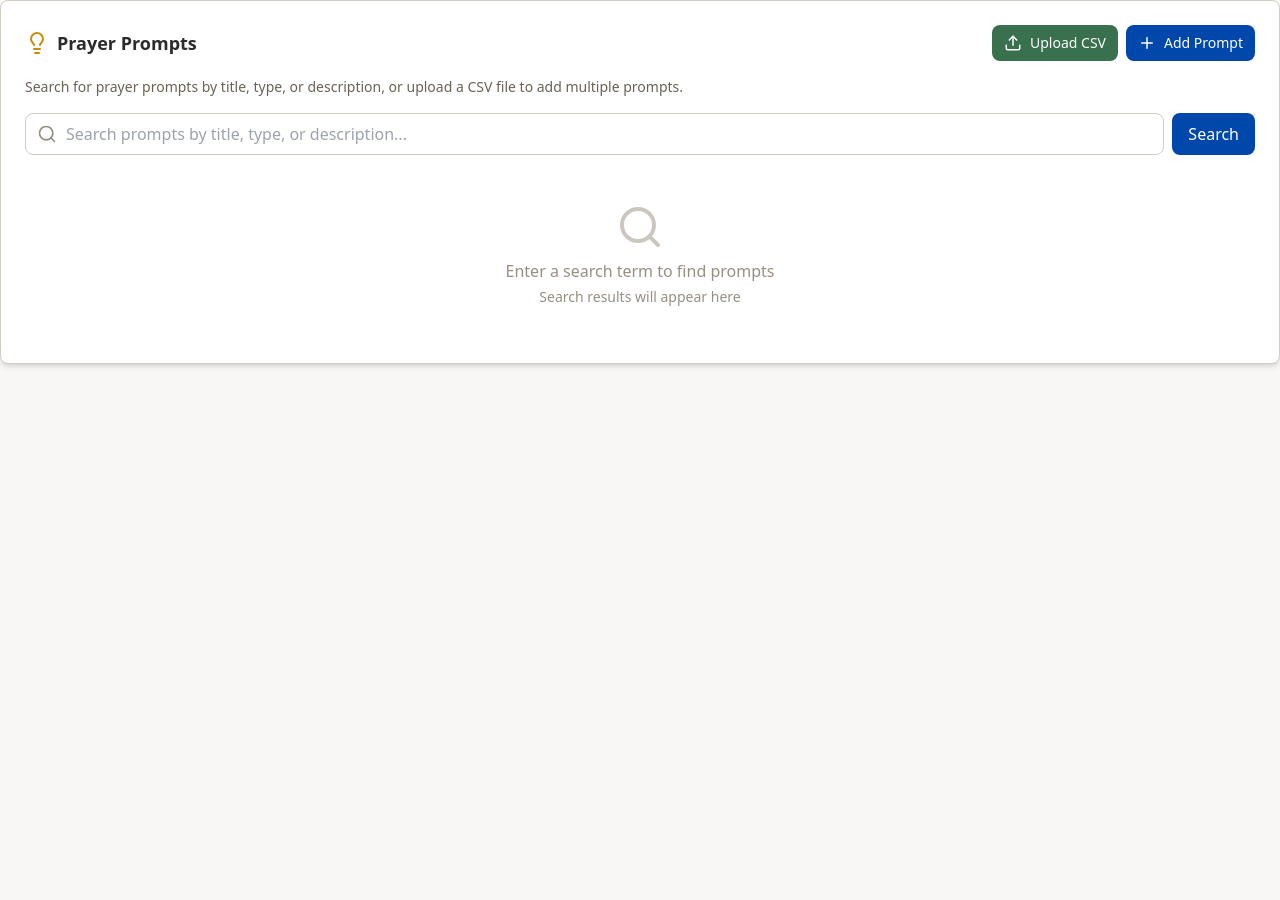
Test case: PromptManager Component › Add Prompt Functionality › shows add form when Add Prompt button is clicked
// Click the top Add Prompt button (not the submit button)
Step 1. Click the button "Add Prompt" → (1190, 43), box [1126,25,1255,61]
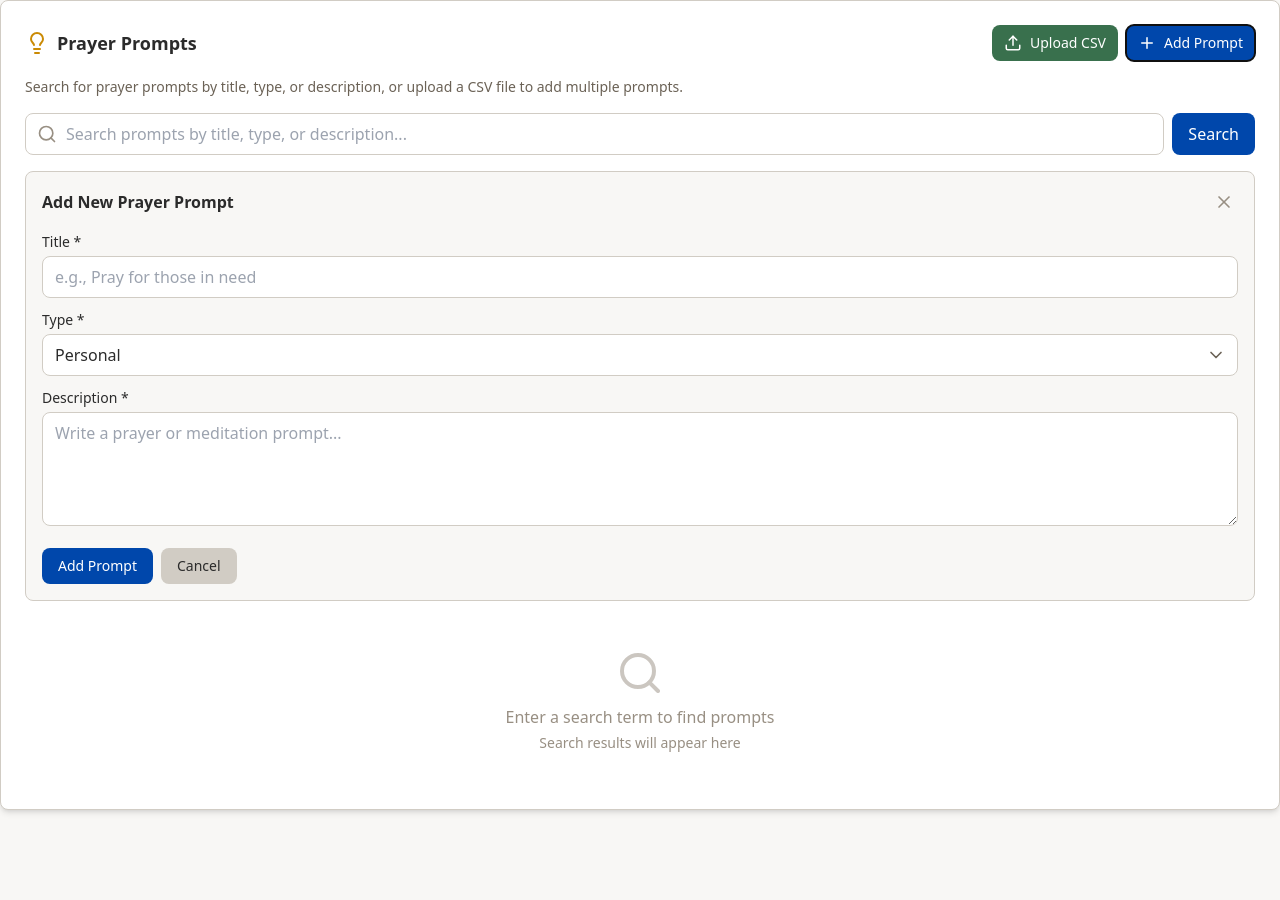
Result: the heading "Add New Prayer Prompt" is shown at [42,190,234,214]
